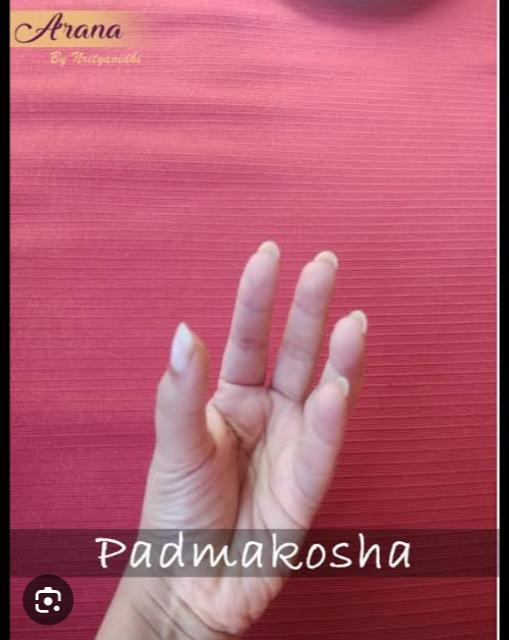padamkosh: (86, 241, 367, 640)
